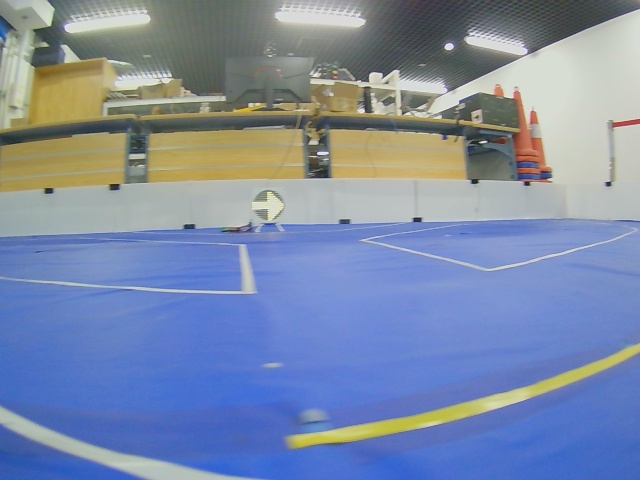right_yellow: (252, 190, 285, 222)
